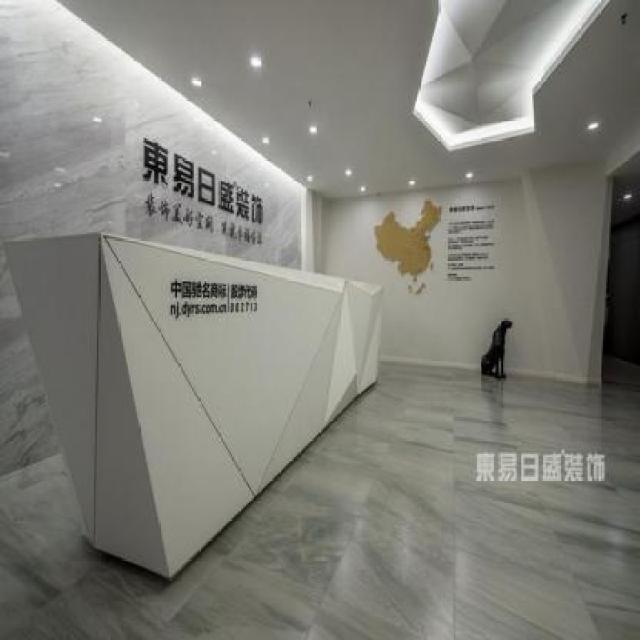frontdesk: (3, 222, 389, 600)
